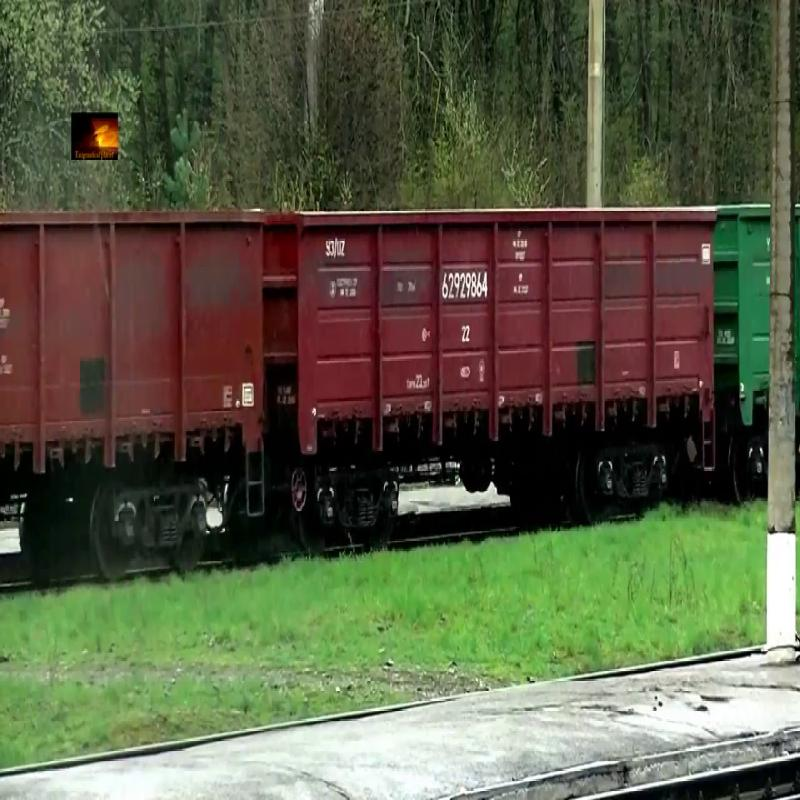train: (270, 205, 714, 456), (1, 209, 265, 479), (715, 206, 770, 428)
